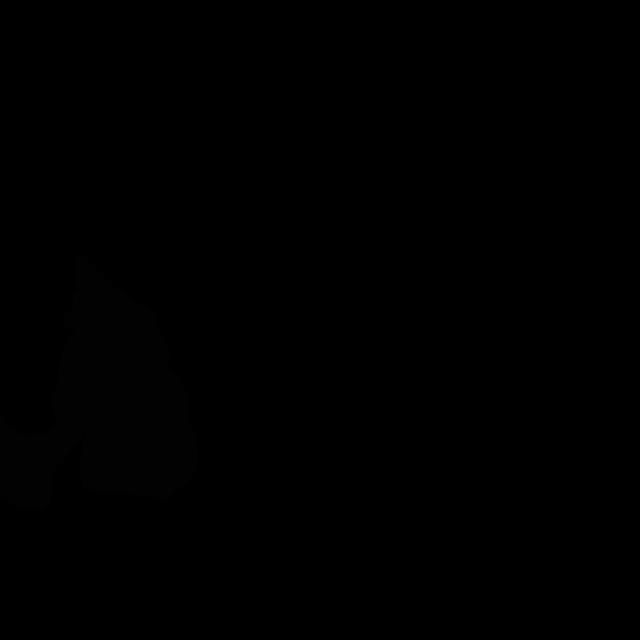cardboard: (50, 253, 198, 499), (0, 413, 82, 511)
